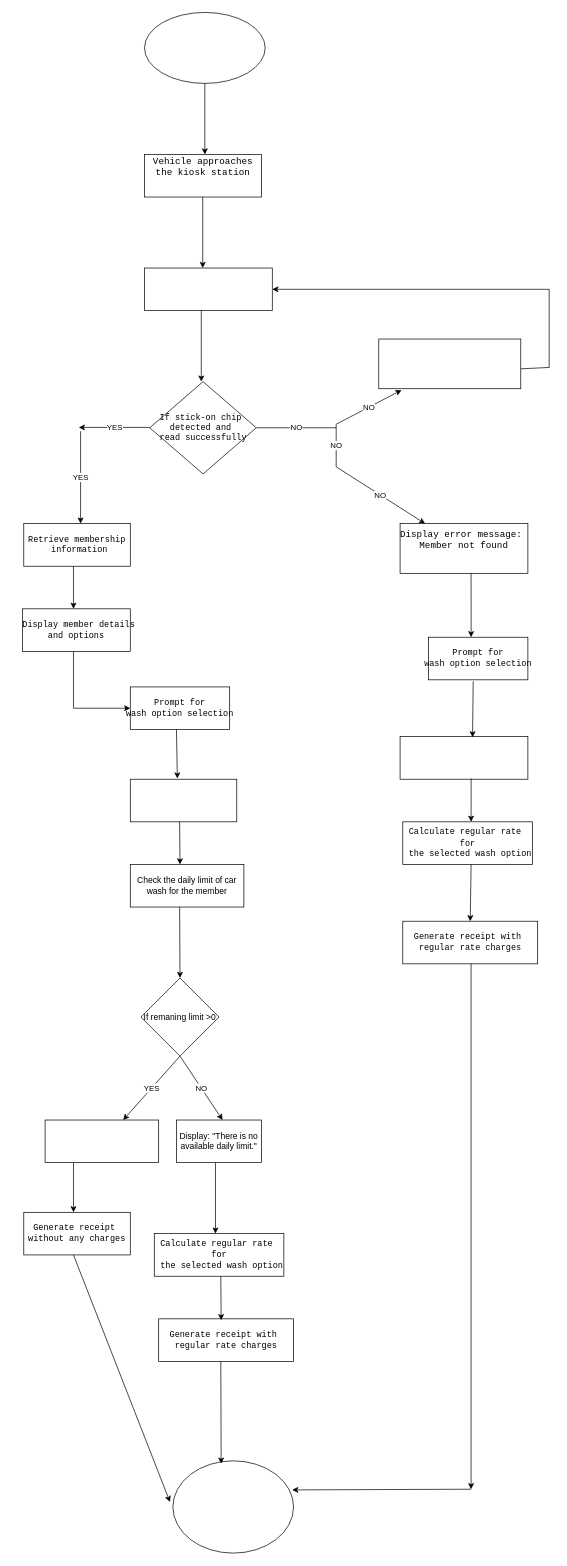
The diagram is 567 pixels wide and 1566 high, and some of its shapes have lost their labels. The box of each missing label's shape, as (x1, y1, x2, y2) in pixels:
Display error message: Stick-on chip not detected or read failed: (378, 338, 521, 389)
Display: "No payment required": (44, 1119, 159, 1163)
EXIT: (172, 1460, 294, 1553)
Getting input for car wash option from the customer: (399, 736, 528, 779)
Scan the vehicle via stick-on barcode chip: (144, 267, 272, 311)
START: (144, 12, 265, 83)
The member selects car wash option: (130, 779, 237, 822)
